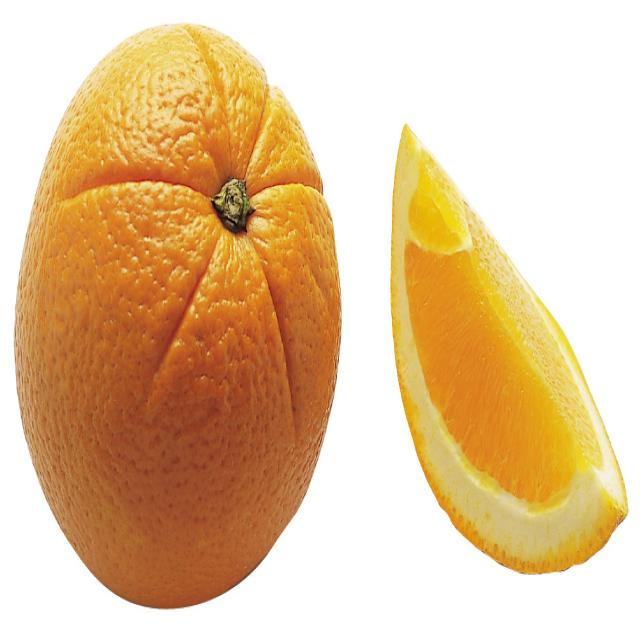orange: (10, 25, 343, 600), (390, 120, 636, 581)
